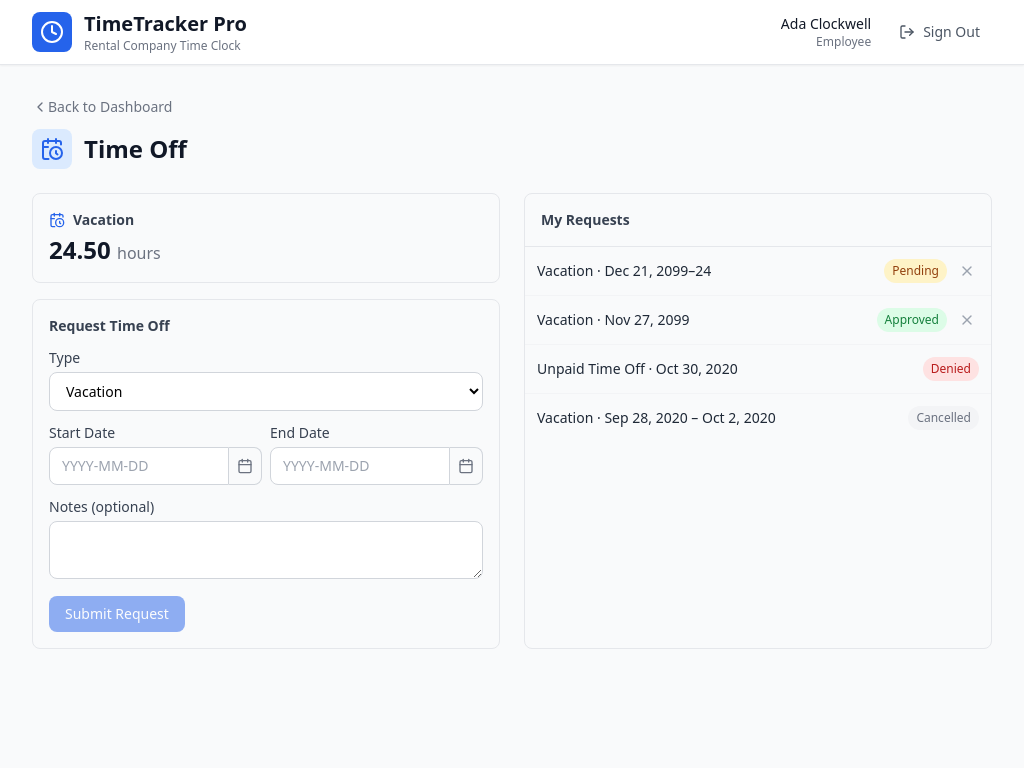
Test: Time Off page › submits a request and refreshes the request history
This screenshot has width=1024, height=768.
expect the text "24.50" is shown: met, box [49,233,111,266]
Select "Unpaid Time Off" in the dropdown labelled "Type" at (266, 392), box [49,372,483,411]
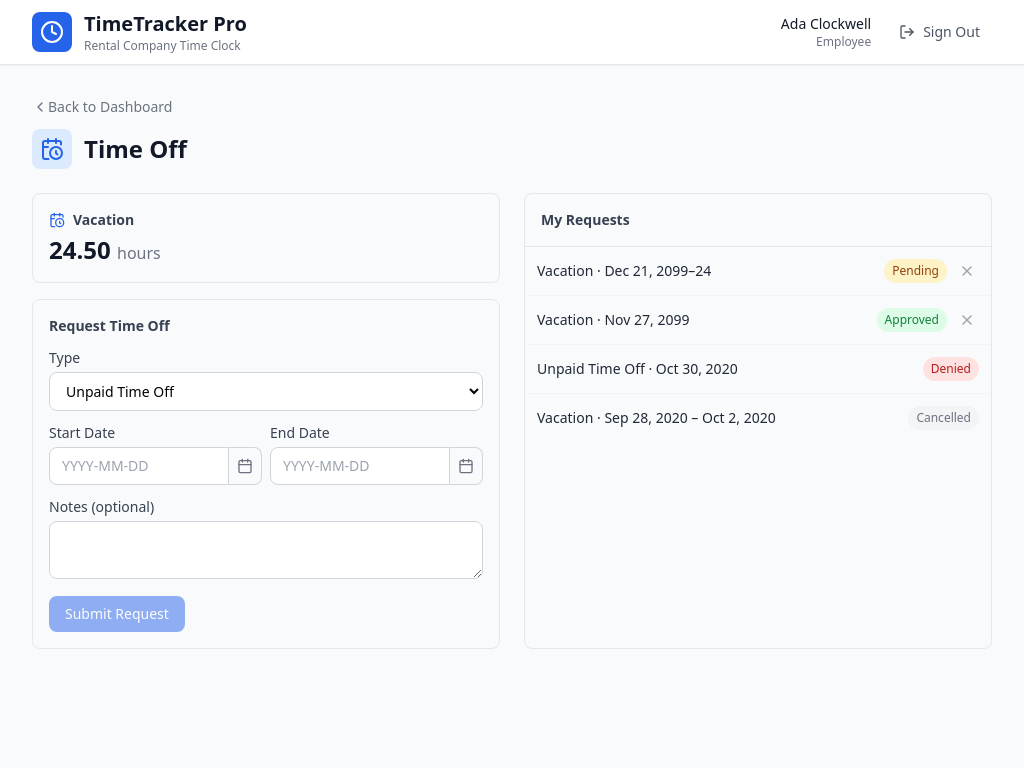
Type "2099-09-14" into the field labelled "Start Date".
click(139, 466); type("2099-09-14")  # box [49,447,229,485]
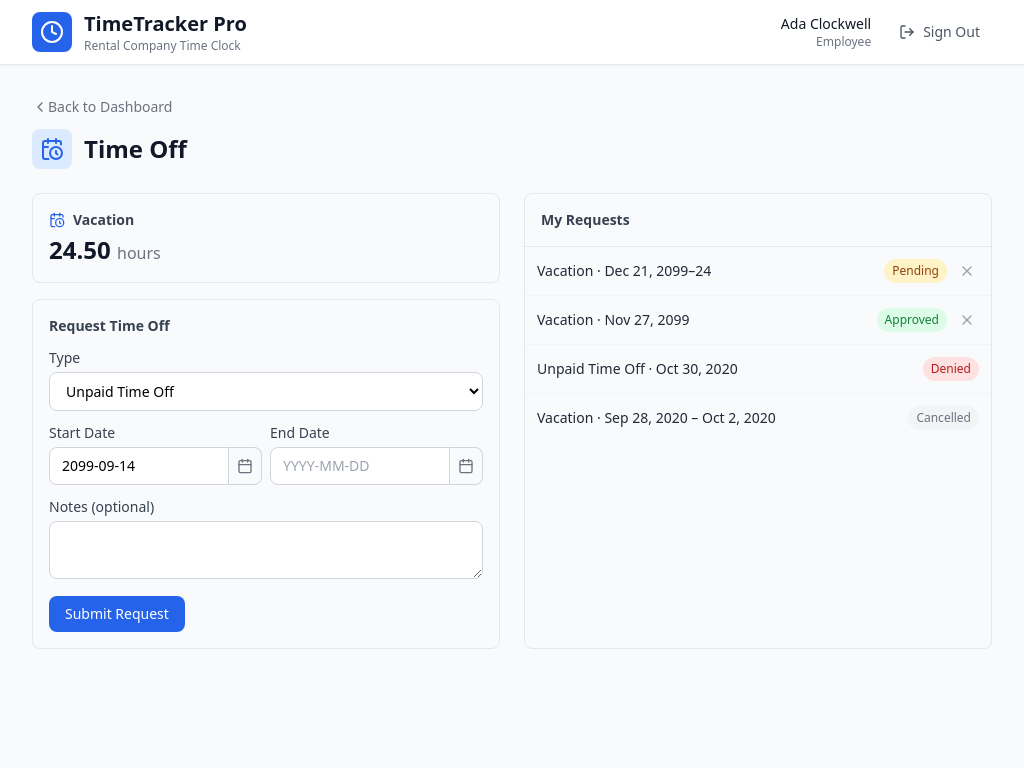
Click the button "Submit Request".
click(117, 614)  # box [49,596,185,632]
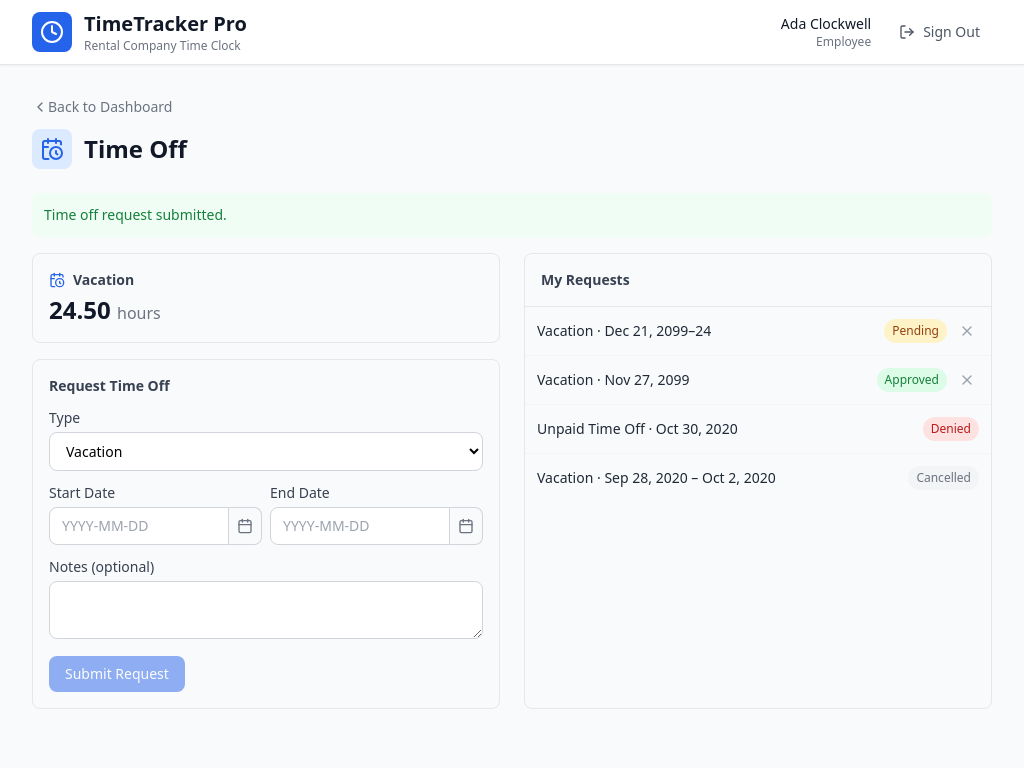
expect the message reads "Time off request submitted.": met, box [44,205,227,224]
